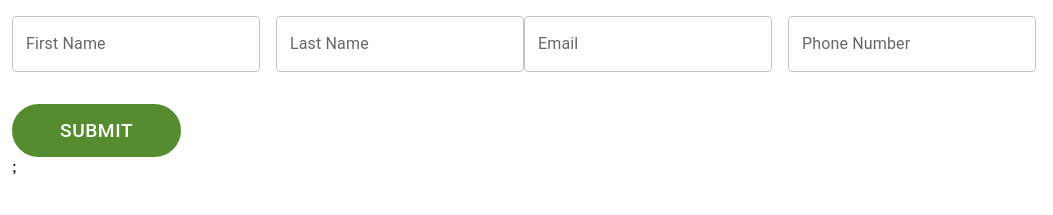
Test: Form validation › Shows error message if first name is invalid
Type "J0hn" into the field with test id "fname" at [136, 44], box x1=12 y1=16 x2=260 y2=72
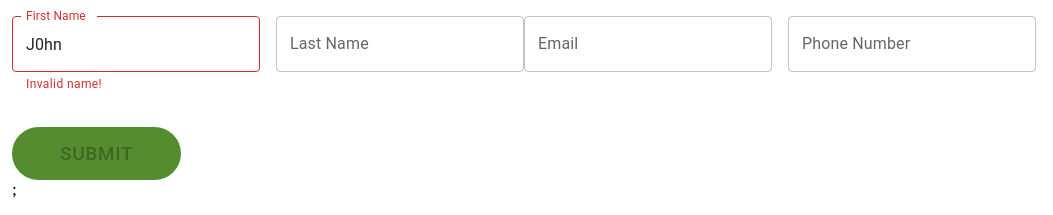
expect the text with test id "first-name-error" reads "Invalid name!": met, box x1=26 y1=77 x2=102 y2=91
